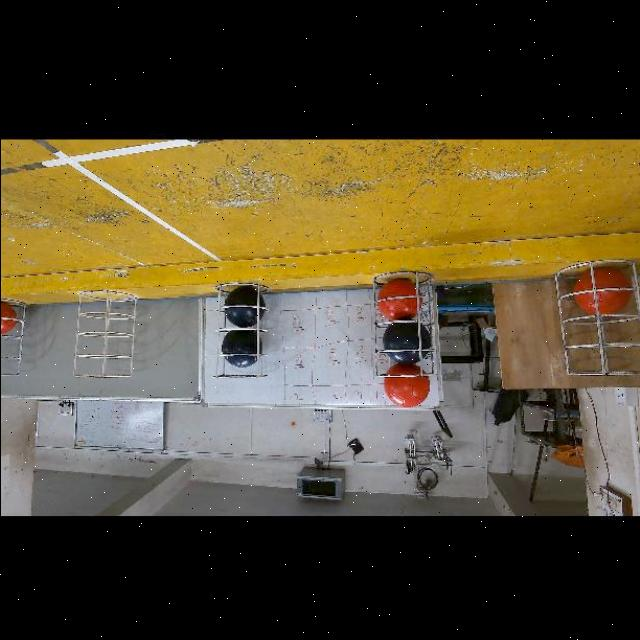P: (381, 323, 431, 364), (223, 286, 265, 328), (221, 329, 261, 368)
R: (572, 268, 631, 315), (383, 363, 430, 408), (376, 278, 422, 321), (0, 302, 17, 335)
S: (558, 260, 640, 384), (368, 268, 448, 382), (206, 282, 274, 382), (74, 284, 140, 376), (0, 300, 28, 382)
